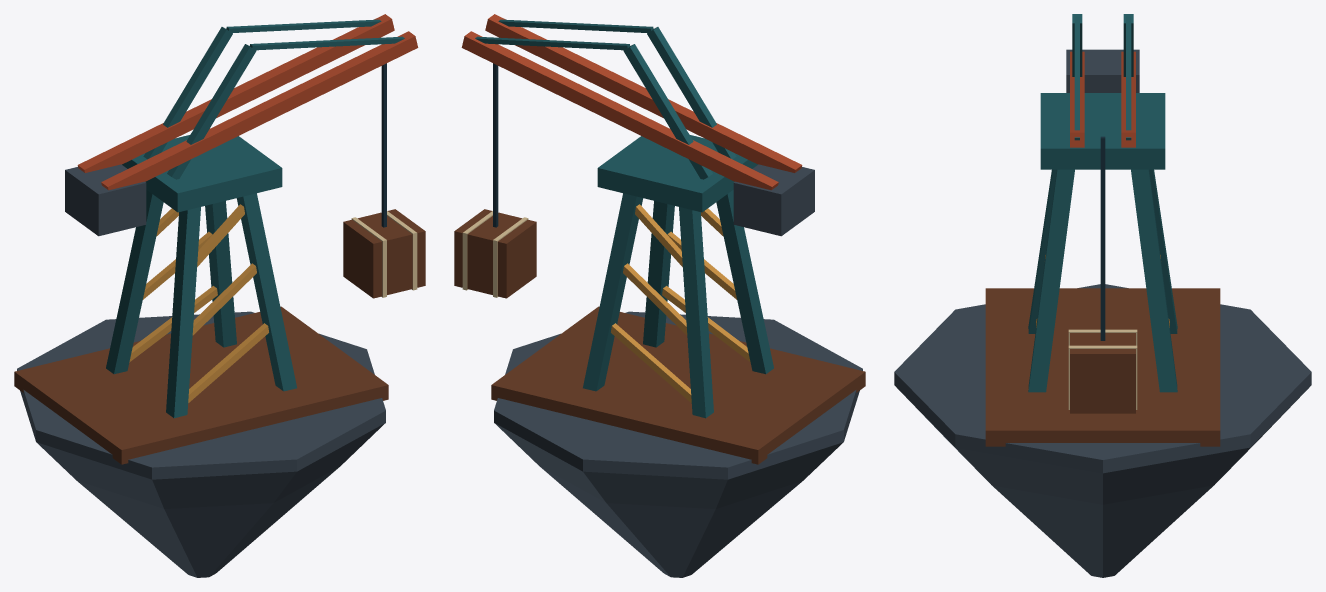
The model's file is freight_dock.glb.
The picture shows the model from 3 angles, left to right: view 1: azimuth 30°, elevation 25°; view 2: azimuth 150°, elevation 25°; view 3: azimuth 270°, elevation 25°; orthographic projection. The views are drawn at different scales.
Parts seen in each view (by area): view 1: freight_dock; view 2: freight_dock; view 3: freight_dock.
Part boxes in pixels (x1,y1,x2,y2): freight_dock: (14, 14, 425, 577); freight_dock: (454, 14, 865, 577); freight_dock: (894, 14, 1311, 577).
Size of the model in its own units: 12.9 by 17.34 by 11.4.
